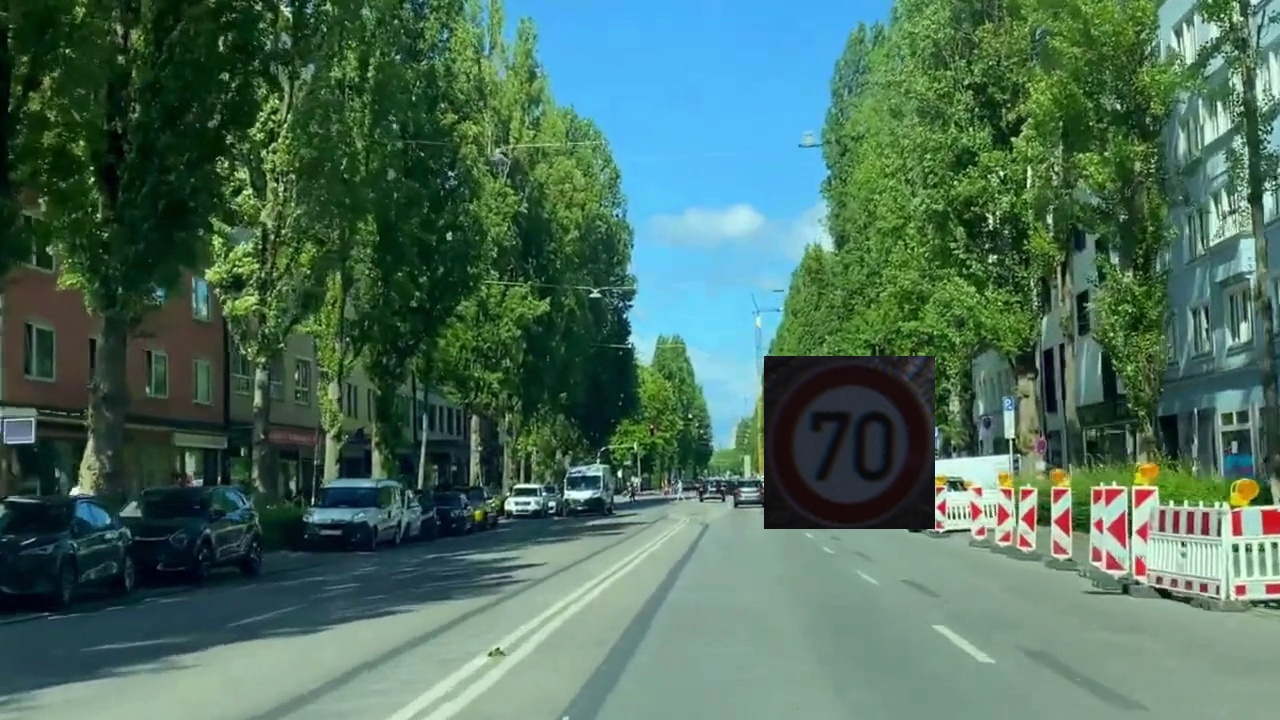Speed 70: (764, 356, 935, 529)
